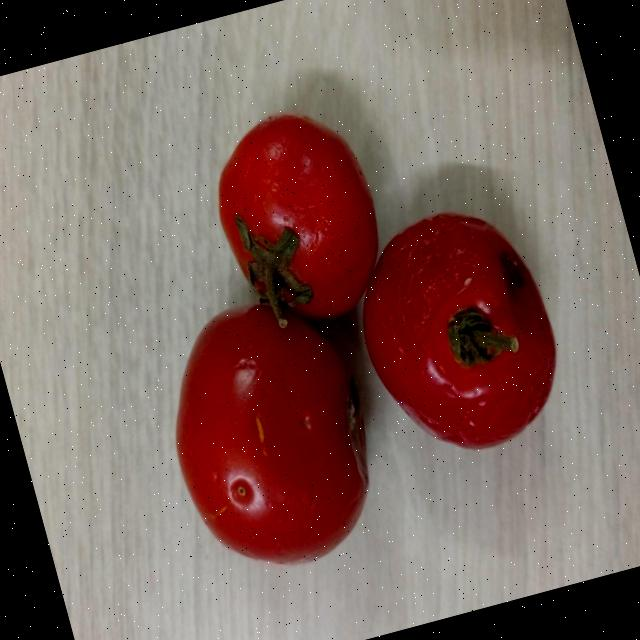Rotten: (142, 282, 398, 585), (334, 190, 577, 472)
